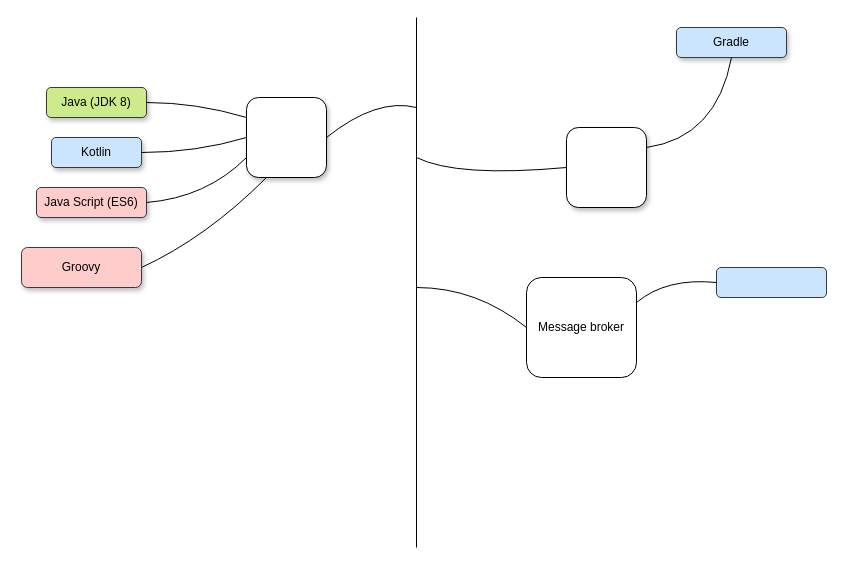
Some shapes in this 844 by 566 pixel diagram are drawn without their labels. The shapes that lost their labels are listed below. From the top down, each one's centre as x and y in pixels, then its label:
At (287,138): "Language".
At (607,168): "Build Tool".
At (771,282): "RabbitMQ".
